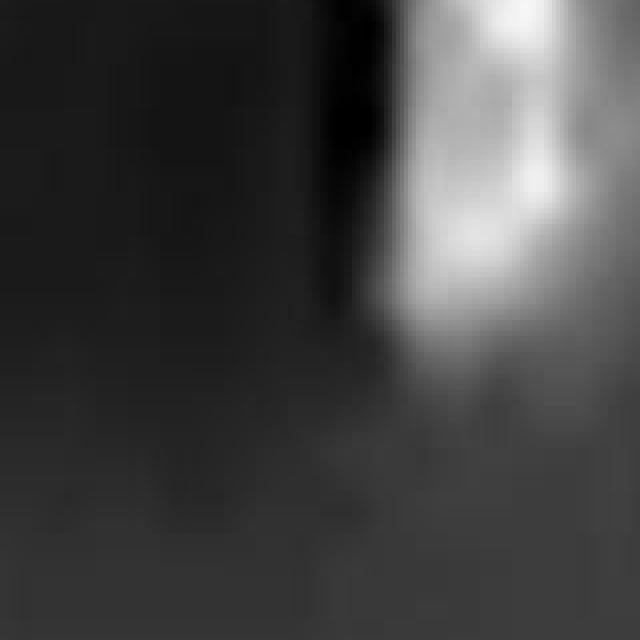person: (337, 1, 640, 390)
